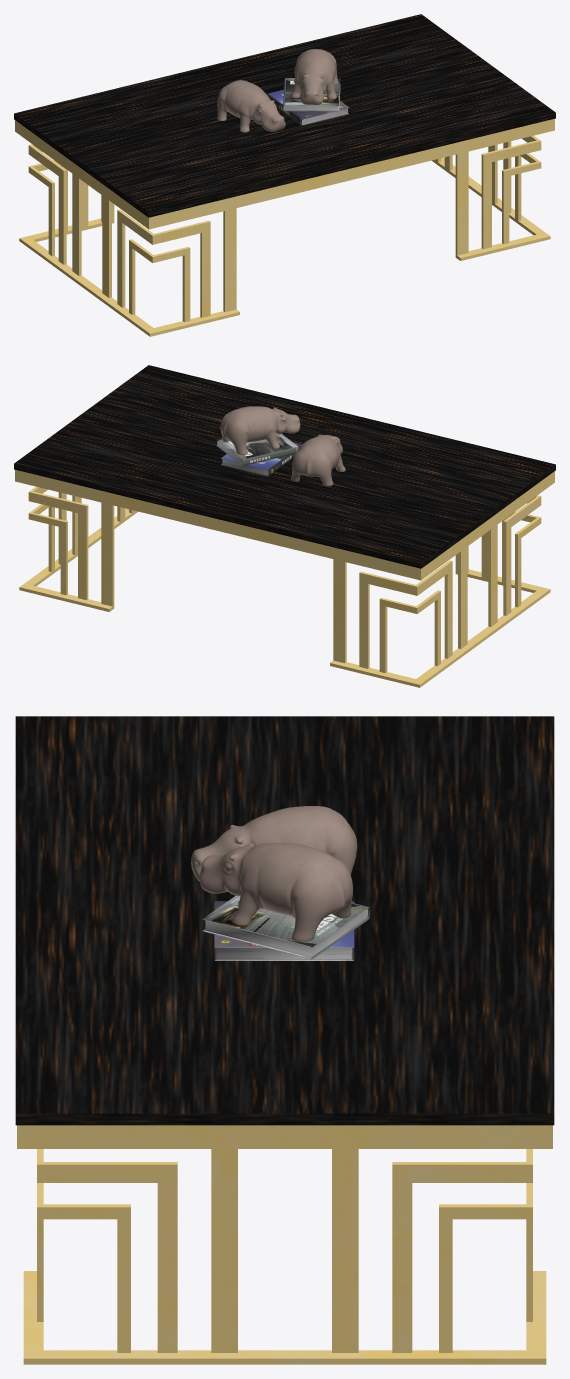
3 renders of one model, top to bottom at view 1: azimuth 30°, elevation 25°; view 2: azimuth 150°, elevation 25°; view 3: azimuth 270°, elevation 25°, orthographic. The views are drawn at different scales.
Visible parts, largest first — view 1: 2_low, 1_low, Hippopotamus.002, Hippopotamus.001, 22 Books 1.002, 22 Books 0.002; view 2: 2_low, 1_low, Hippopotamus.001, Hippopotamus.002, 22 Books 1.002, 22 Books 0.002; view 3: 2_low, 1_low, Hippopotamus.001, Hippopotamus.002, 22 Books 1.002, 22 Books 0.002.
Part boxes in pixels (x1=…): 2_low: x1=14, y1=14, x2=555, y2=217; 1_low: x1=15, y1=118, x2=554, y2=336; Hippopotamus.002: x1=217, y1=80, x2=285, y2=132; Hippopotamus.001: x1=291, y1=49, x2=338, y2=104; 22 Books 1.002: x1=283, y1=78, x2=340, y2=111; 22 Books 0.002: x1=267, y1=89, x2=349, y2=125; 2_low: x1=14, y1=365, x2=555, y2=568; 1_low: x1=15, y1=469, x2=554, y2=687; Hippopotamus.001: x1=220, y1=406, x2=300, y2=454; Hippopotamus.002: x1=291, y1=434, x2=345, y2=486; 22 Books 1.002: x1=216, y1=433, x2=298, y2=465; 22 Books 0.002: x1=221, y1=442, x2=302, y2=476; 2_low: x1=15, y1=716, x2=554, y2=1125; 1_low: x1=17, y1=1125, x2=552, y2=1364; Hippopotamus.001: x1=200, y1=843, x2=352, y2=941; Hippopotamus.002: x1=191, y1=806, x2=357, y2=881; 22 Books 1.002: x1=202, y1=895, x2=369, y2=959; 22 Books 0.002: x1=214, y1=901, x2=354, y2=960.
Size of the model in its own units: 140 by 58.08 by 80.4.
Materials: 4 (4 with a texture image).
